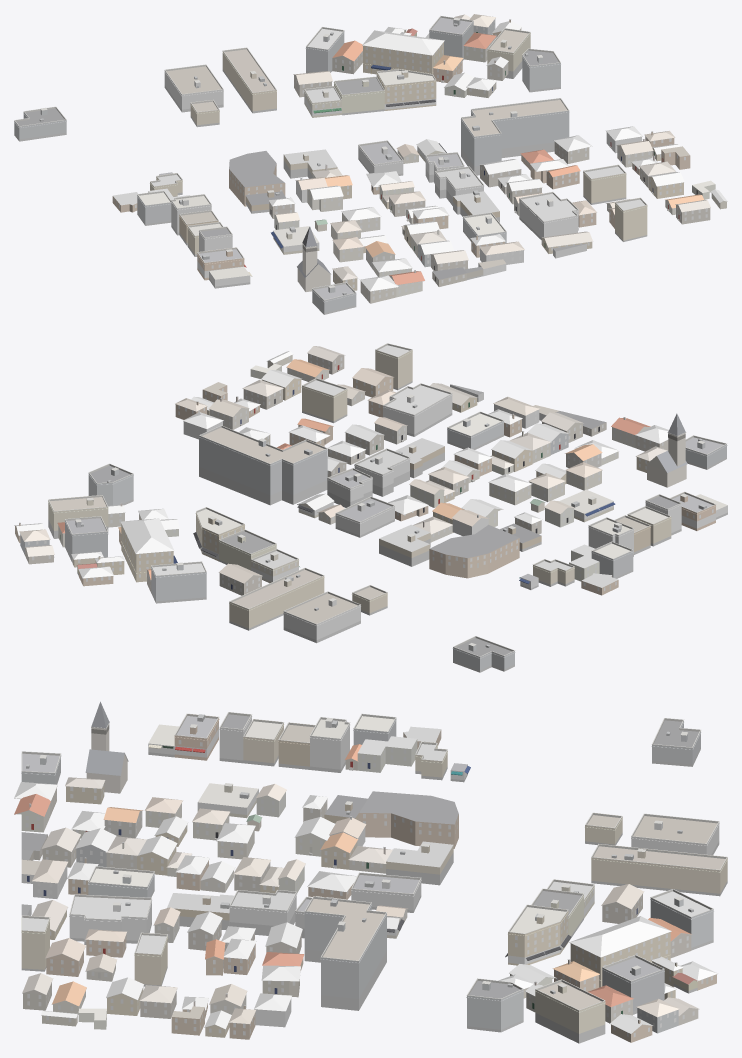
File: bld_0_-2.dae
The picture shows the model from 3 angles, top to bottom: view 1: azimuth 30°, elevation 25°; view 2: azimuth 150°, elevation 25°; view 3: azimuth 270°, elevation 25°; orthographic projection. The views are drawn at different scales.
Visible parts, largest first — view 1: blda1971; view 2: blda1971; view 3: blda1971.
Part boxes in pixels (x1,y1,x2,y2): blda1971: (14, 14, 727, 314); blda1971: (14, 343, 727, 672); blda1971: (14, 701, 727, 1043).
Size of the model in its own units: 272 by 269 by 38.55.
